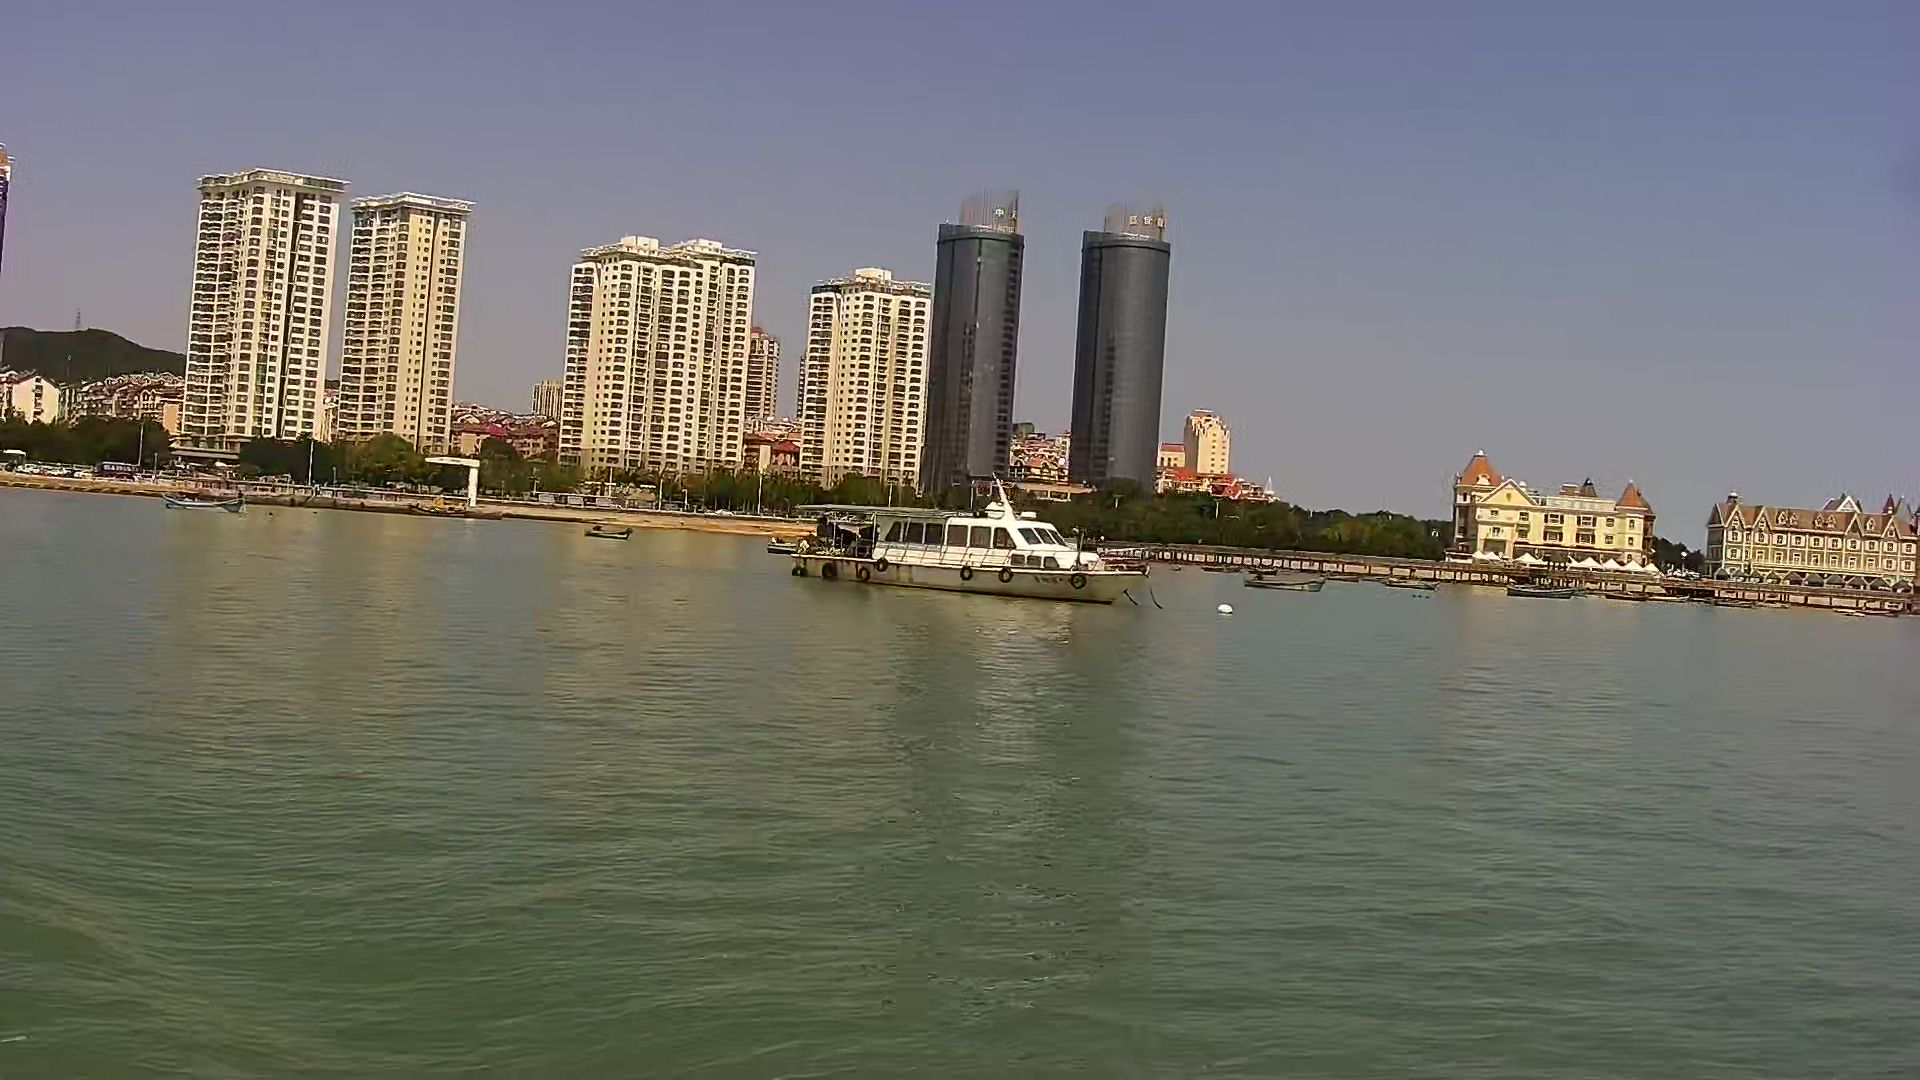ball: (1211, 601, 1241, 618)
boat: (156, 489, 249, 517), (1244, 572, 1331, 593), (582, 520, 632, 542)
ship: (789, 483, 1147, 607)
